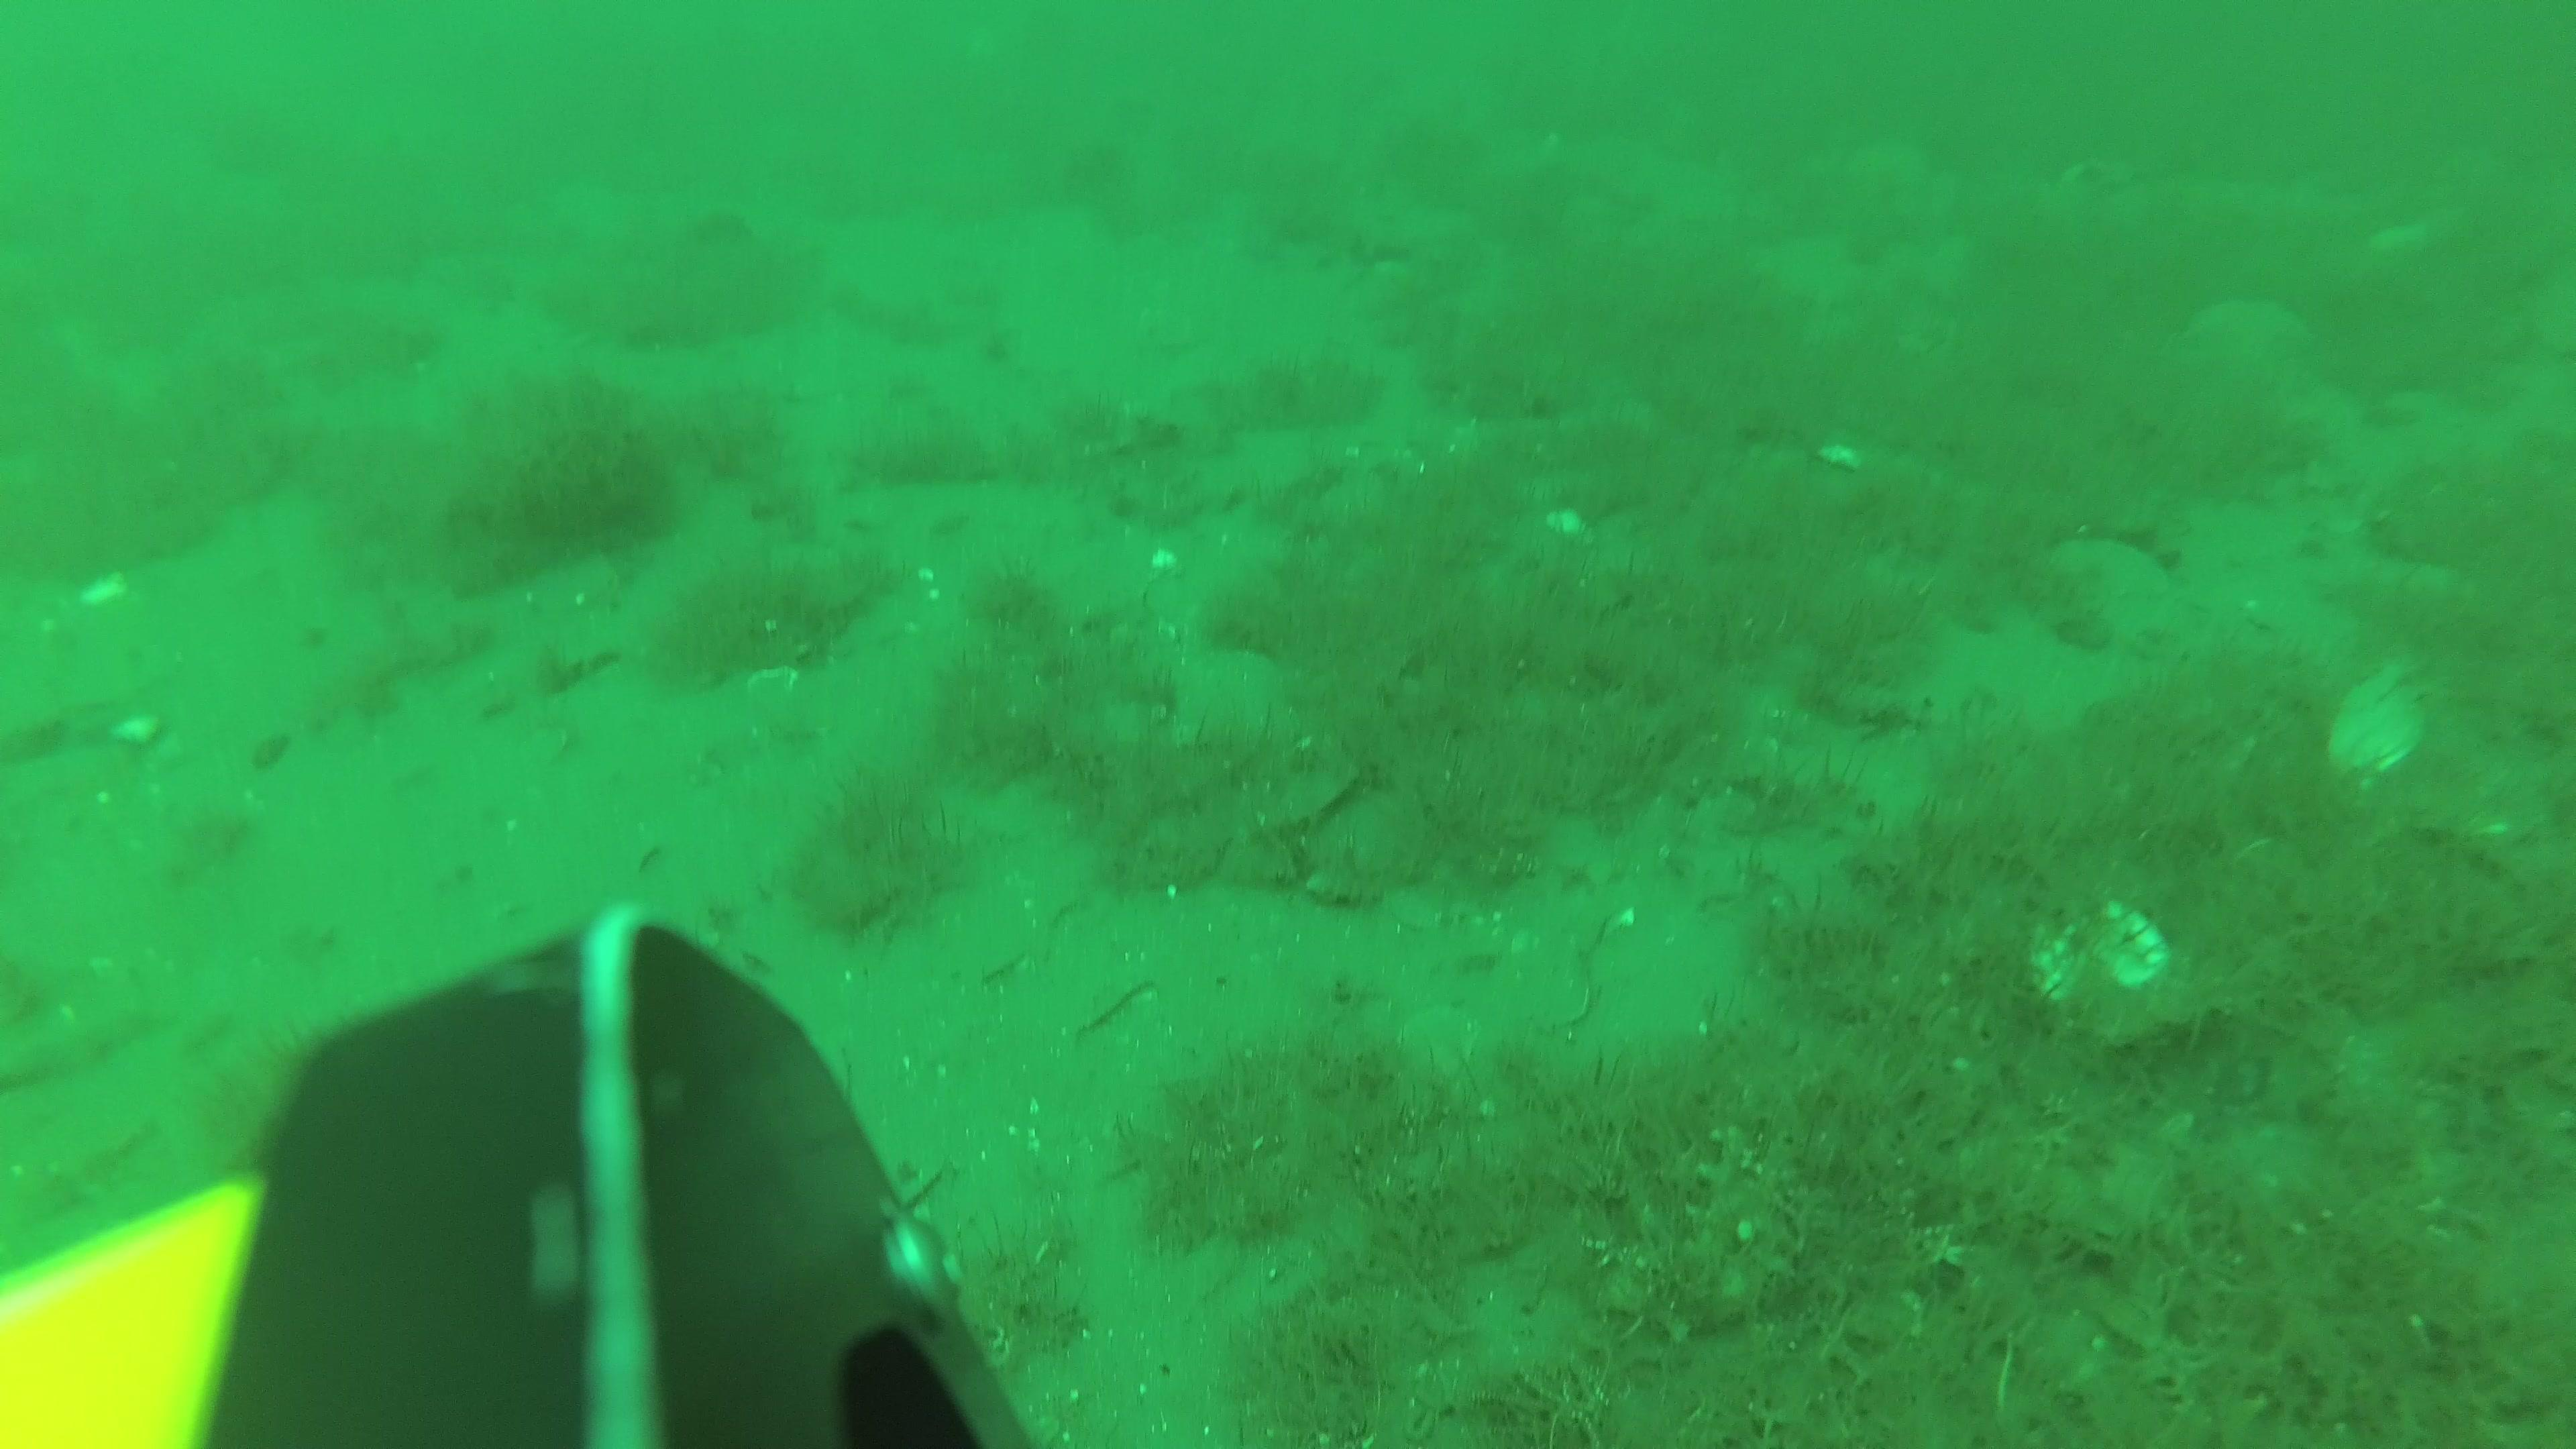scallop: (2028, 895, 2167, 1039), (2325, 660, 2424, 794), (2049, 533, 2171, 635), (536, 554, 616, 610), (747, 660, 801, 717)
starfish: (2181, 295, 2312, 364)
